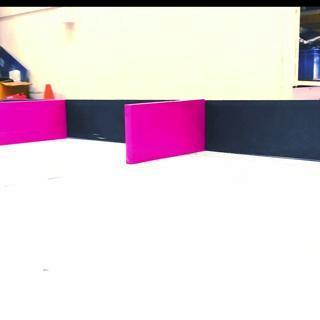xparking: (124, 105, 203, 163), (0, 102, 65, 138)
